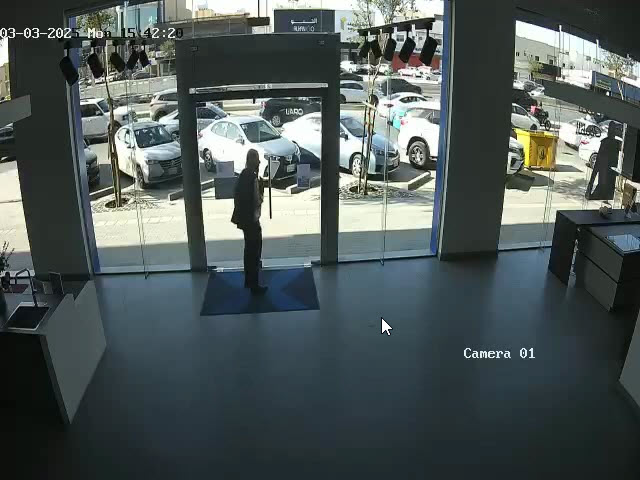male: (231, 148, 268, 294)
